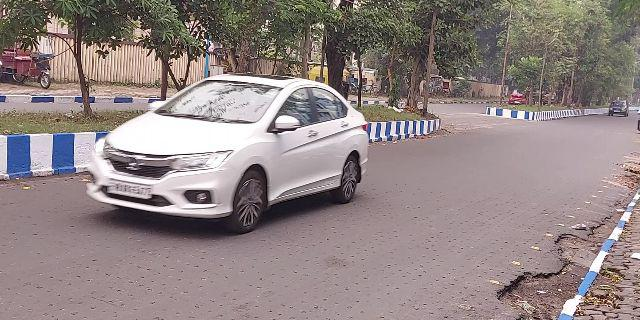Car: (85, 66, 374, 230), (607, 95, 633, 121)
